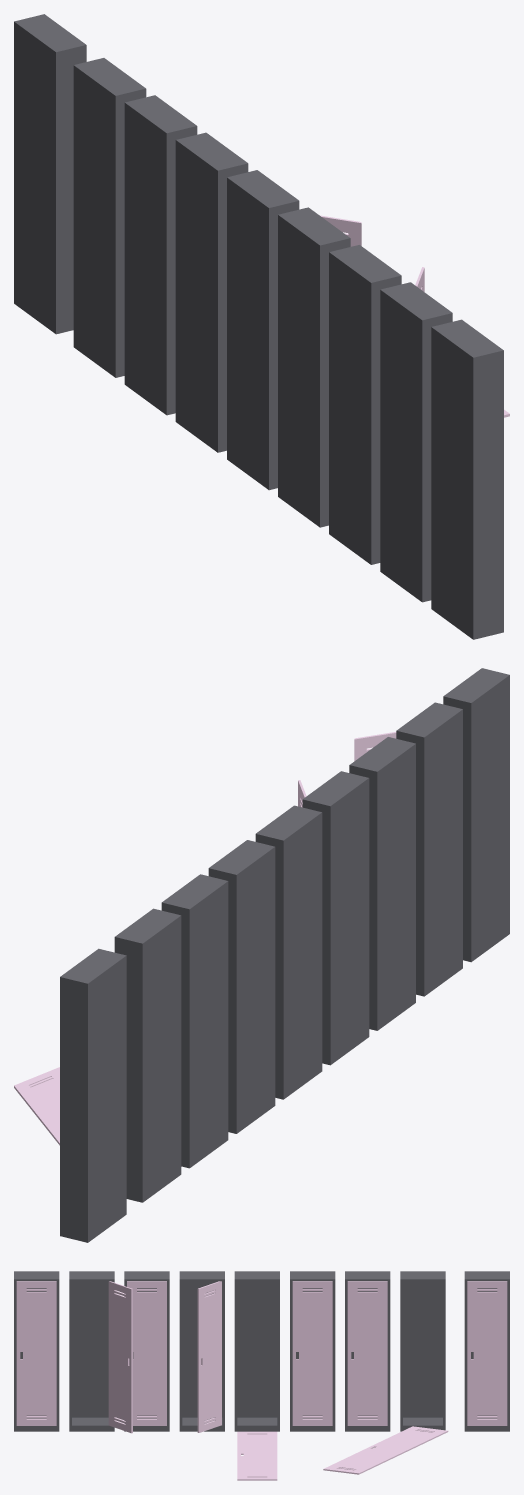
File: 9 casilleros.fbx
3 views of the same model, one above another, from view 1: azimuth 30°, elevation 25°; view 2: azimuth 150°, elevation 25°; view 3: azimuth 270°, elevation 25° (orthographic). The views are drawn at different scales.
Parts seen in each view (by area): view 1: casillero 7, casillero 7.008, casillero 7.022, casillero 7.023, casillero 7.007, casillero 7.001, casillero 7.002, casillero 7.004, casillero 7.003; view 2: casillero 7.008, casillero 7.007, casillero 7.003, casillero 7.004, casillero 7.023, casillero 7.022, casillero 7.001, casillero 7, casillero 7.002, puerta casillero 1.007; view 3: casillero 7.004, casillero 7.007, casillero 7.001, puerta casillero 1, puerta casillero 1.008, puerta casillero 1.029, puerta casillero 1.028, puerta casillero 1.002, casillero 7.003, puerta casillero 1.001, puerta casillero 1.003, puerta casillero 1.007 (+6 smaller).
Boxes of the visible parts, <box> form: casillero 7: <box>431,319,503,639</box>; casillero 7.008: <box>14,14,86,334</box>; casillero 7.022: <box>175,132,248,452</box>; casillero 7.023: <box>124,95,197,415</box>; casillero 7.007: <box>73,58,146,377</box>; casillero 7.001: <box>380,282,452,602</box>; casillero 7.002: <box>329,245,401,564</box>; casillero 7.004: <box>227,170,299,490</box>; casillero 7.003: <box>278,207,350,527</box>; casillero 7.008: <box>60,948,126,1242</box>; casillero 7.007: <box>114,908,181,1202</box>; casillero 7.003: <box>302,771,369,1065</box>; casillero 7.004: <box>255,805,322,1099</box>; casillero 7.023: <box>161,874,228,1168</box>; casillero 7.022: <box>208,840,275,1133</box>; casillero 7.001: <box>396,702,462,996</box>; casillero 7: <box>443,668,509,962</box>; casillero 7.002: <box>349,737,415,1030</box>; puerta casillero 1.007: <box>14,1067,59,1145</box>; casillero 7.004: <box>234,1271,279,1431</box>; casillero 7.007: <box>400,1271,445,1431</box>; casillero 7.001: <box>69,1271,114,1431</box>; puerta casillero 1: <box>16,1281,56,1425</box>; puerta casillero 1.008: <box>467,1281,507,1425</box>; puerta casillero 1.029: <box>347,1281,387,1425</box>; puerta casillero 1.028: <box>292,1281,332,1425</box>; puerta casillero 1.002: <box>127,1281,166,1425</box>; casillero 7.003: <box>179,1271,224,1431</box>; puerta casillero 1.001: <box>108,1281,132,1433</box>; puerta casillero 1.003: <box>197,1281,221,1432</box>; puerta casillero 1.007: <box>323,1426,448,1474</box>.
Size of the model in its own units: 288 by 318 by 940.
